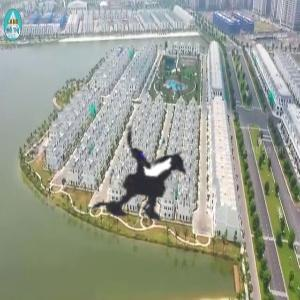drone: (47, 89, 252, 294)
